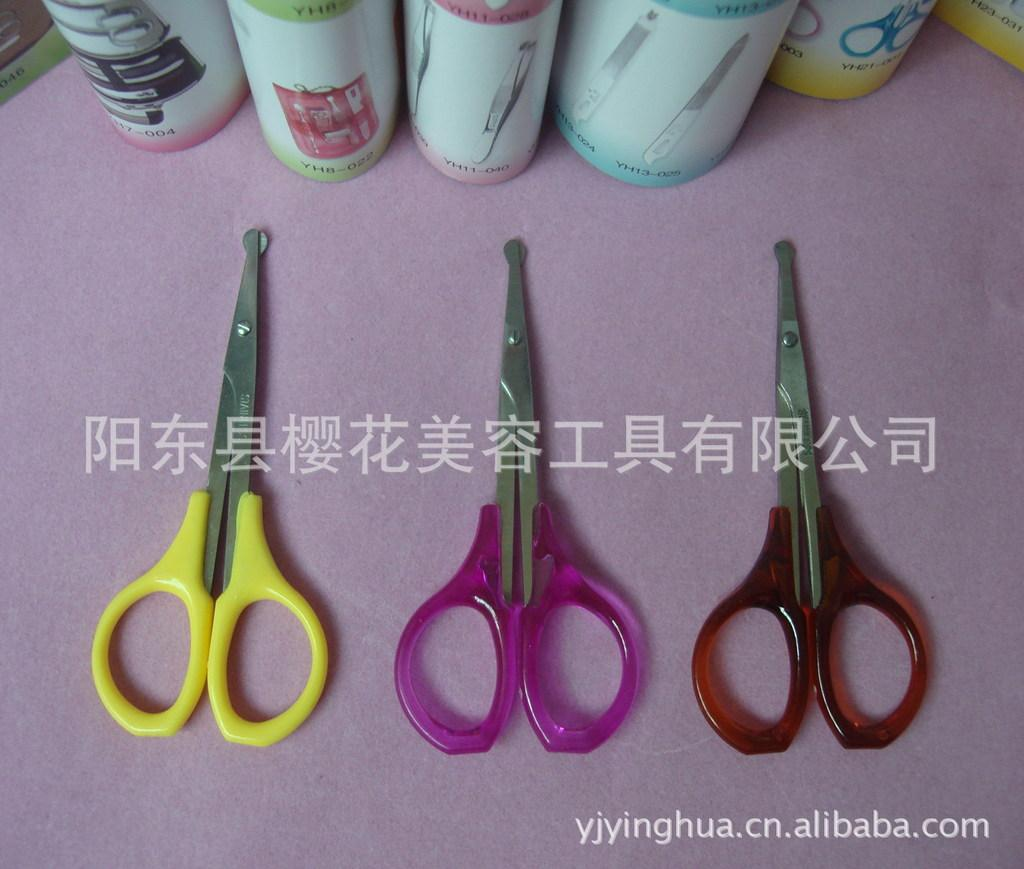scissor: (49, 198, 986, 838)
